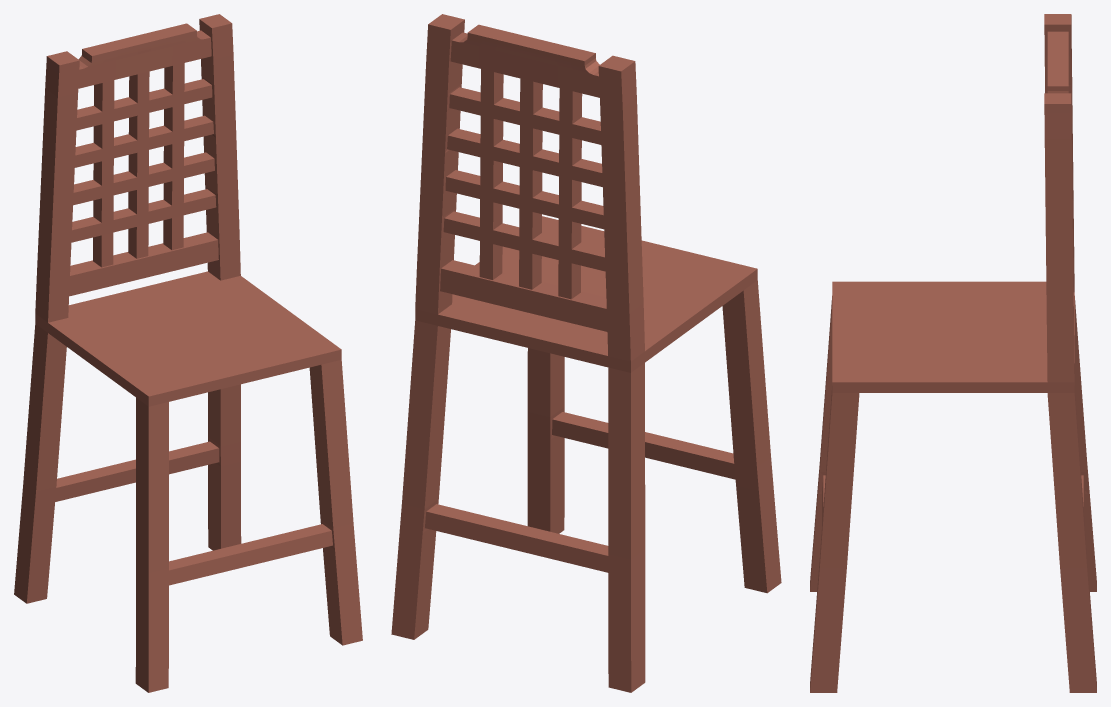
The model's file is Restaurant_Chair_NoTextures.fbx.
3 renders of one model, left to right at view 1: azimuth 30°, elevation 25°; view 2: azimuth 150°, elevation 25°; view 3: azimuth 270°, elevation 25°, orthographic. The views are drawn at different scales.
Visible parts, largest first — view 1: m_Silla_01; view 2: m_Silla_01; view 3: m_Silla_01.
Part boxes in pixels (left/top/right/bottom): m_Silla_01: left=14, top=14, right=362, bottom=692; m_Silla_01: left=391, top=14, right=781, bottom=692; m_Silla_01: left=810, top=14, right=1096, bottom=692.
Size of the model in its own units: 114 by 274 by 123.
